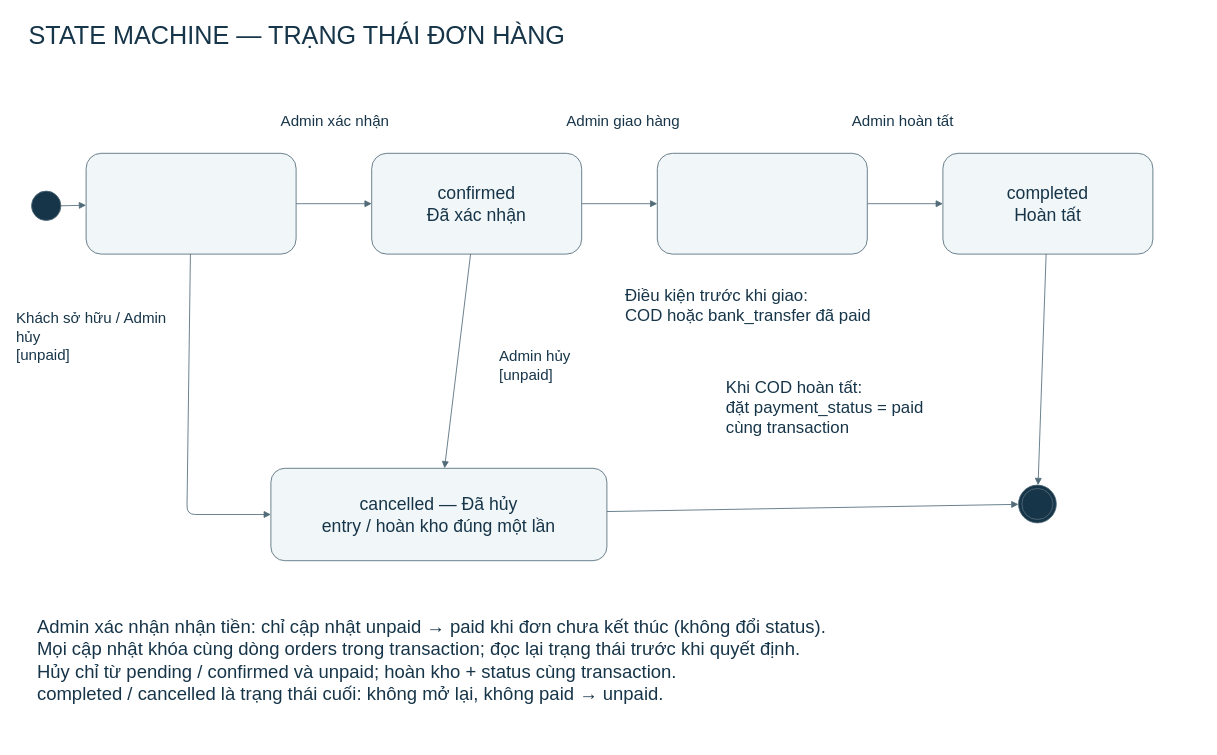
This 1217x755 diagram has some shape labels left out. The shapes that lost their labels are listed below. From the top down, each one's box as (x1, y1, x2, y2) in pixels, then its label:
(85, 152, 296, 254): pending Chờ xác nhận
(656, 152, 867, 254): shipping Đang giao
